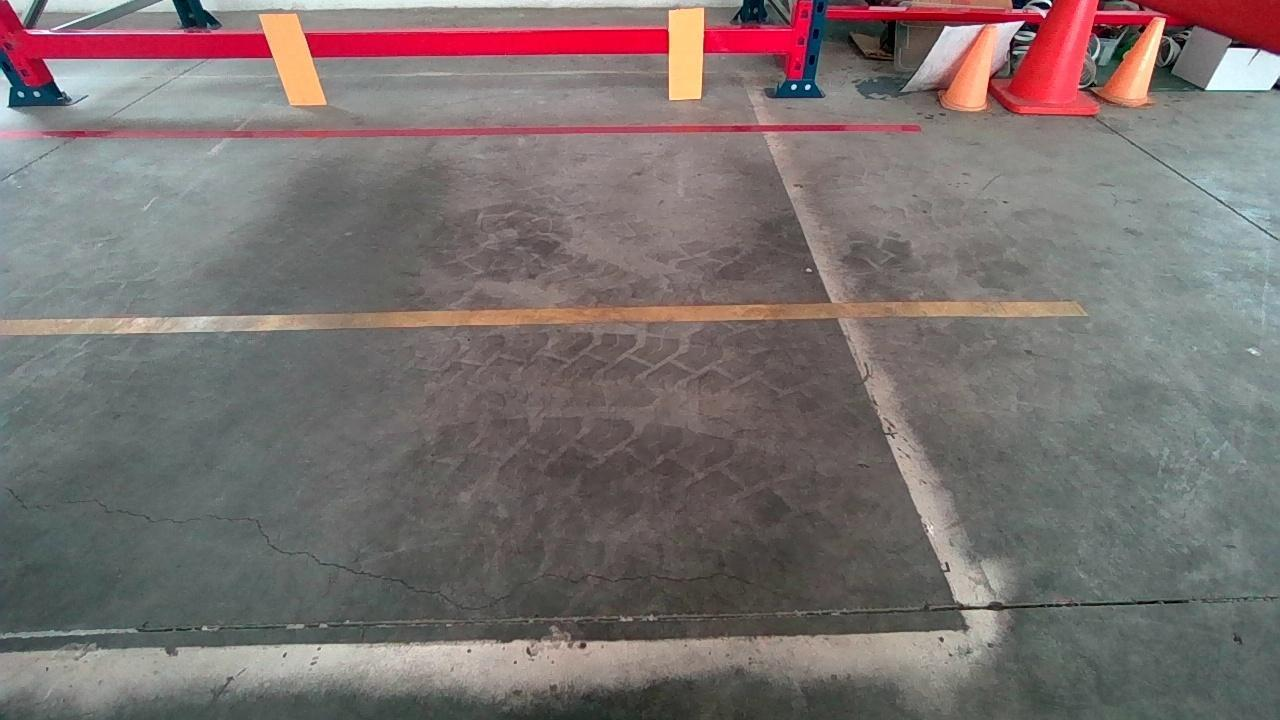h_rack: (25, 20, 792, 62)
orange_strip: (260, 11, 328, 105), (667, 8, 704, 97)
red_line: (20, 108, 920, 149)
yellow_line: (0, 293, 1090, 348)
